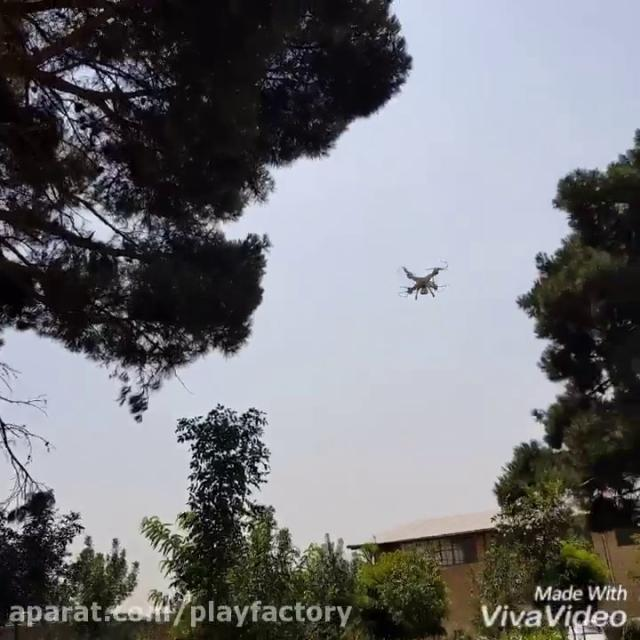drone: (393, 256, 453, 303)
